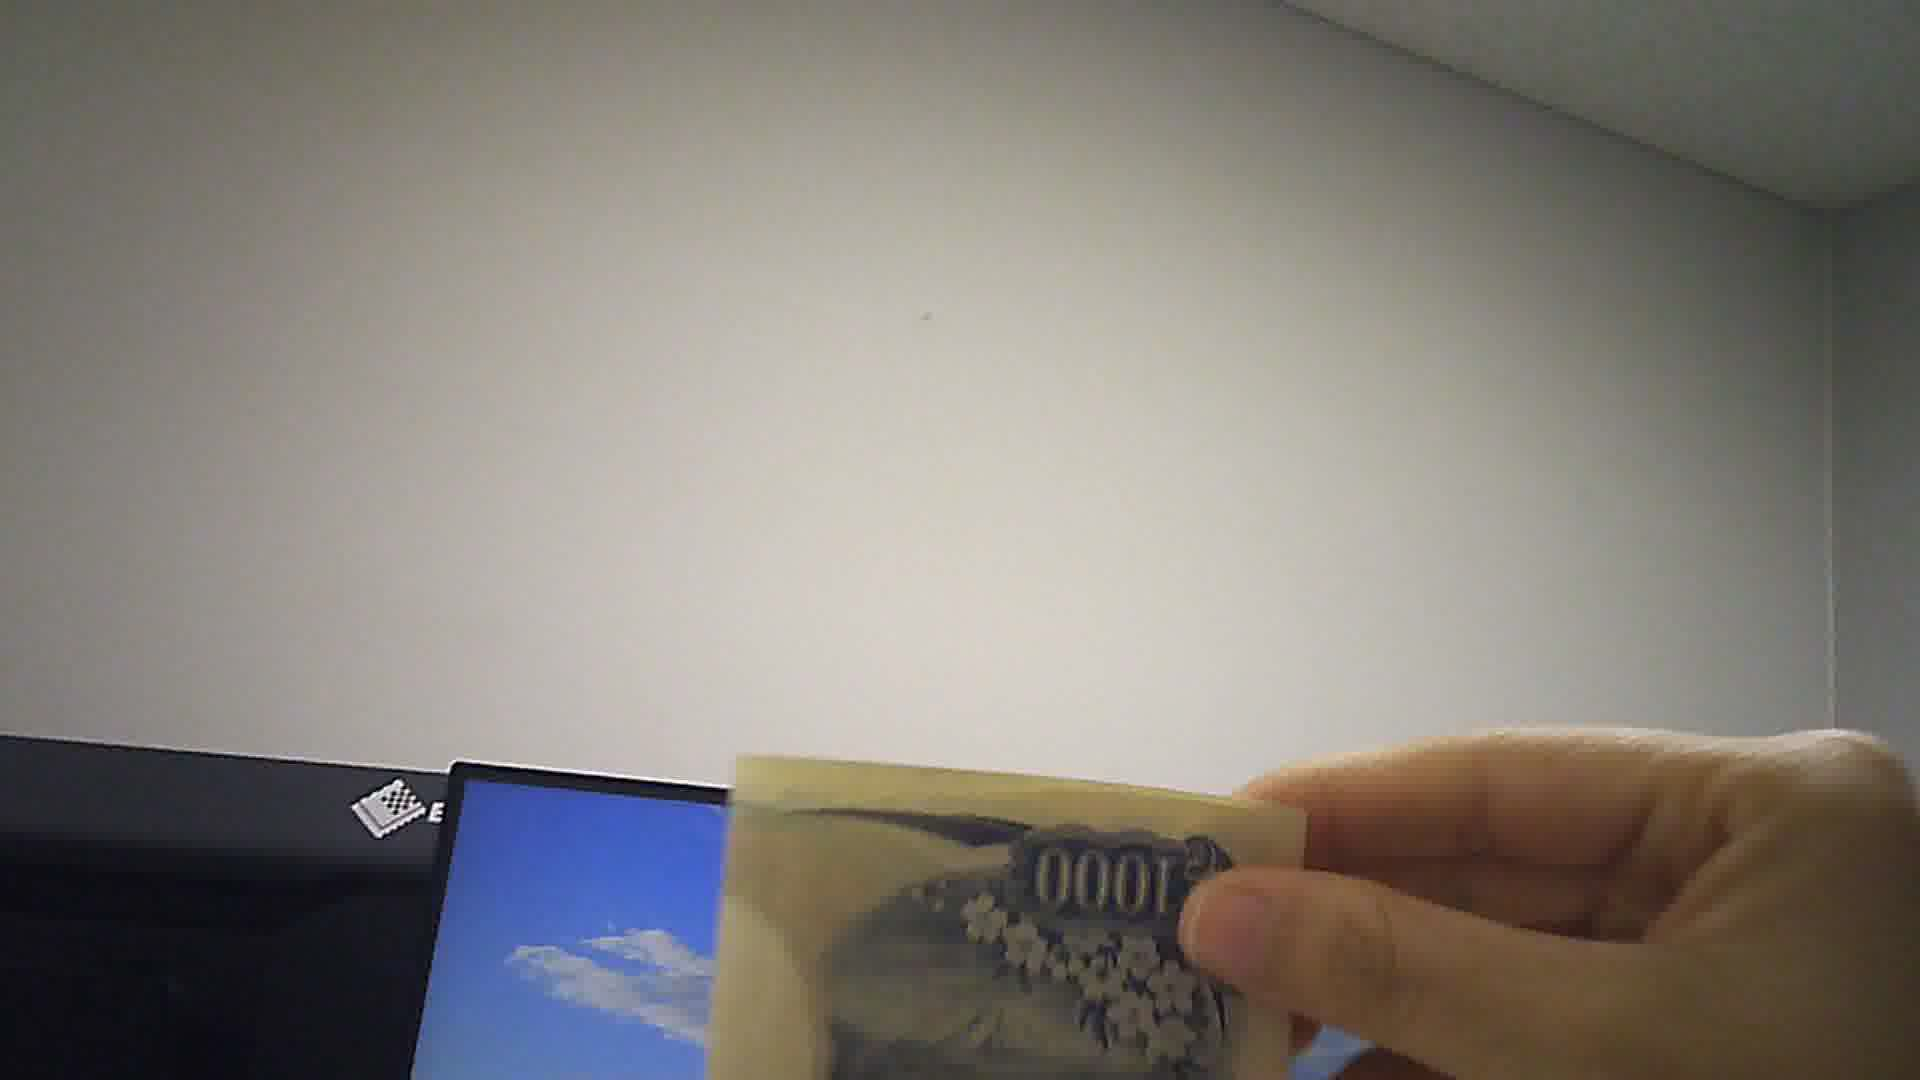1,000 Yen: (715, 746, 1305, 1073)
